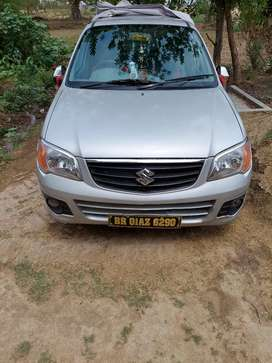BR01AZ6290: (112, 213, 178, 228)
